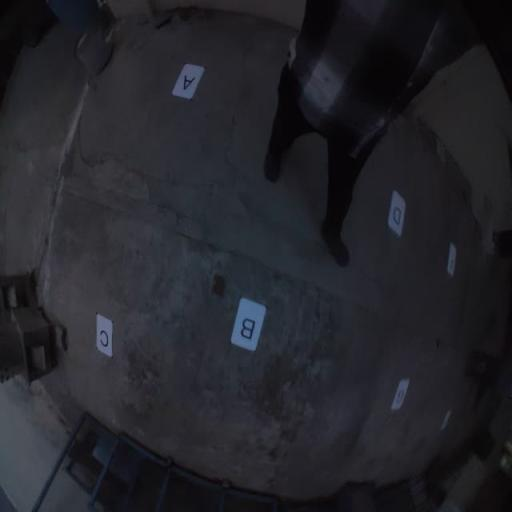A: (171, 64, 205, 99)
B: (230, 296, 266, 351)
C: (96, 312, 113, 358)
D: (388, 189, 406, 237)
G: (390, 378, 410, 412)
